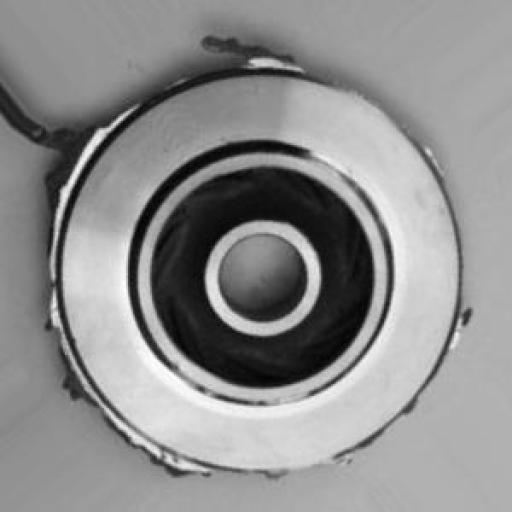defect: (26, 42, 480, 477)
